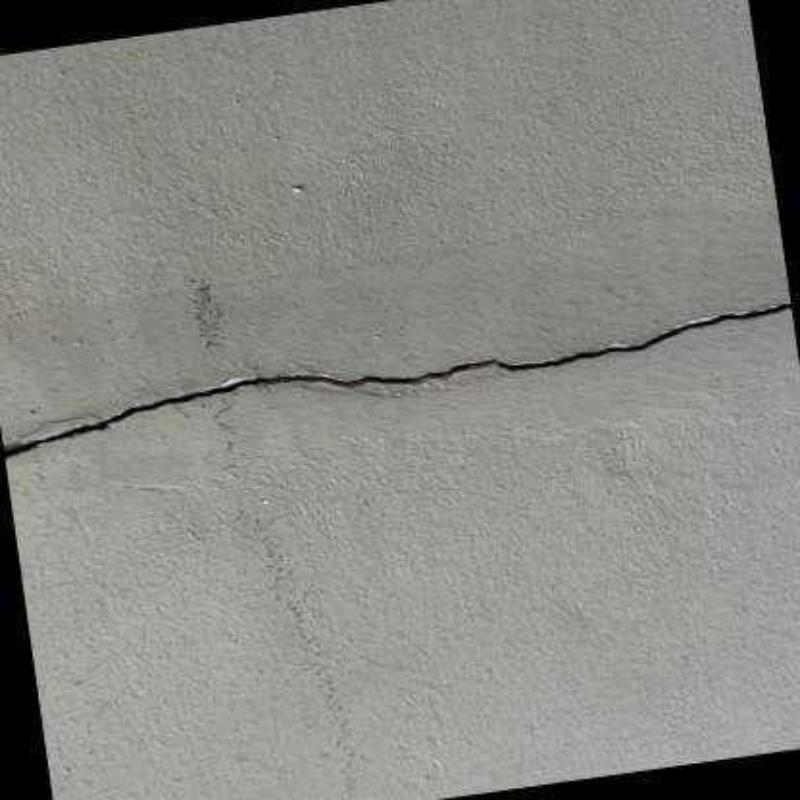pothole: (2, 302, 791, 461)
